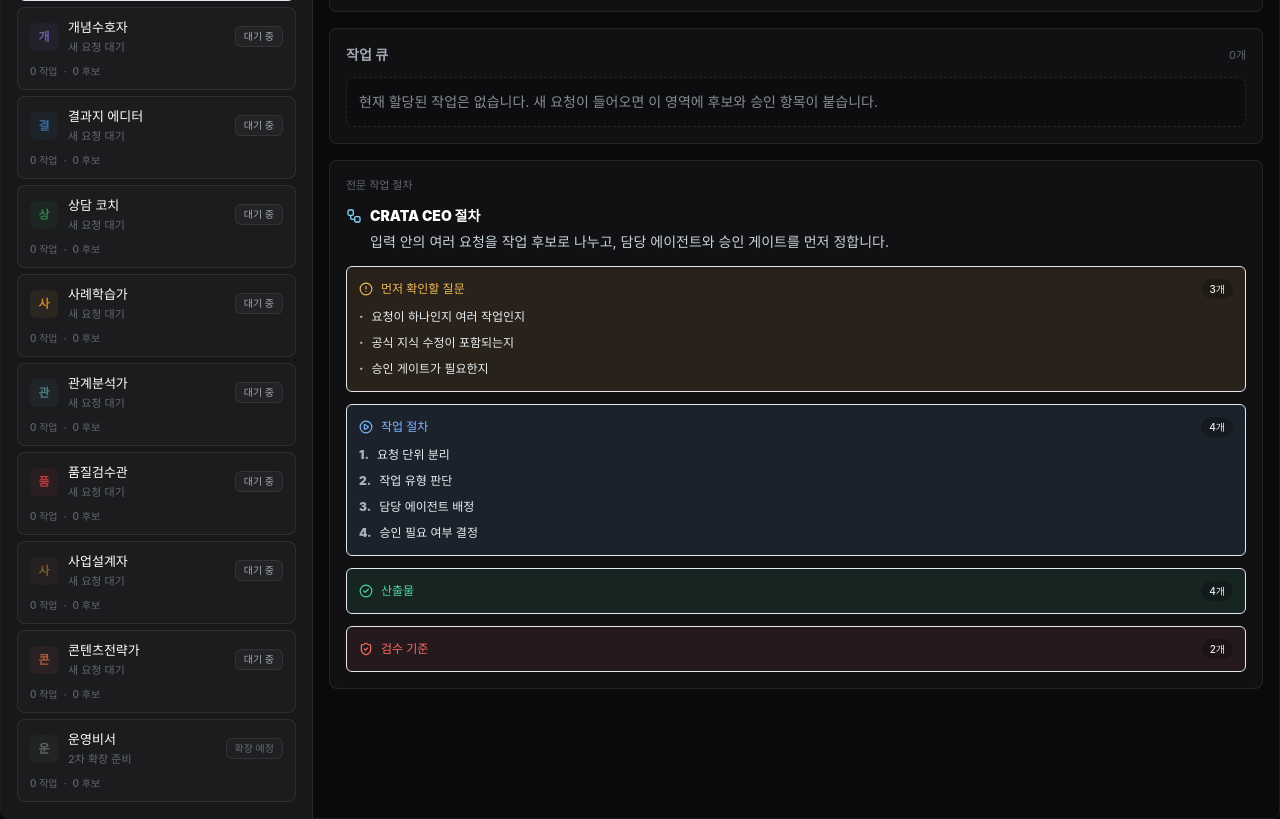
Scenario: AgentsPage › shows the selected agent operating guide without flooding the page
(page scrolled)
Check: the text "전문 작업 절차" is shown, box [346,178,413,192]
Check: the heading "CRATA CEO 절차" is shown, box [370,206,480,224]
Click the button with aria-label "사업설계자 상세 보기".
click(98, 560)  # box [17,540,296,624]
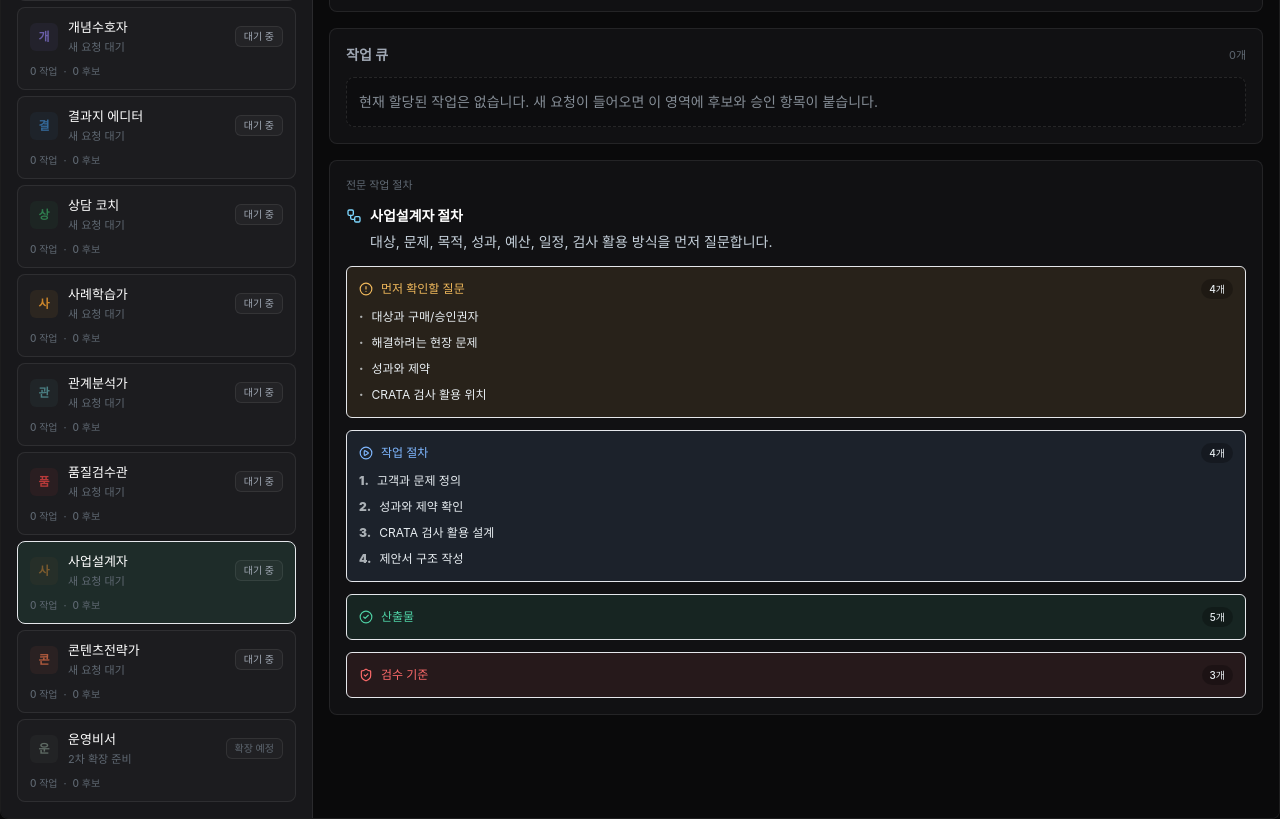
Check: the heading "사업설계자 절차" is shown, box [370,206,463,224]
Check: the text "대상, 문제, 목적, 성과, 예산, 일정, 검사 활용 방식을 먼저 질문합니다." is shown, box [370,230,772,254]
